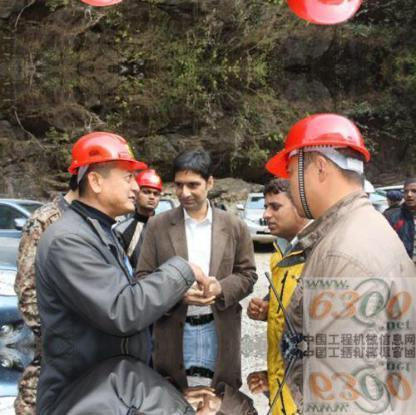helmet: (259, 102, 373, 184), (60, 131, 149, 183)
